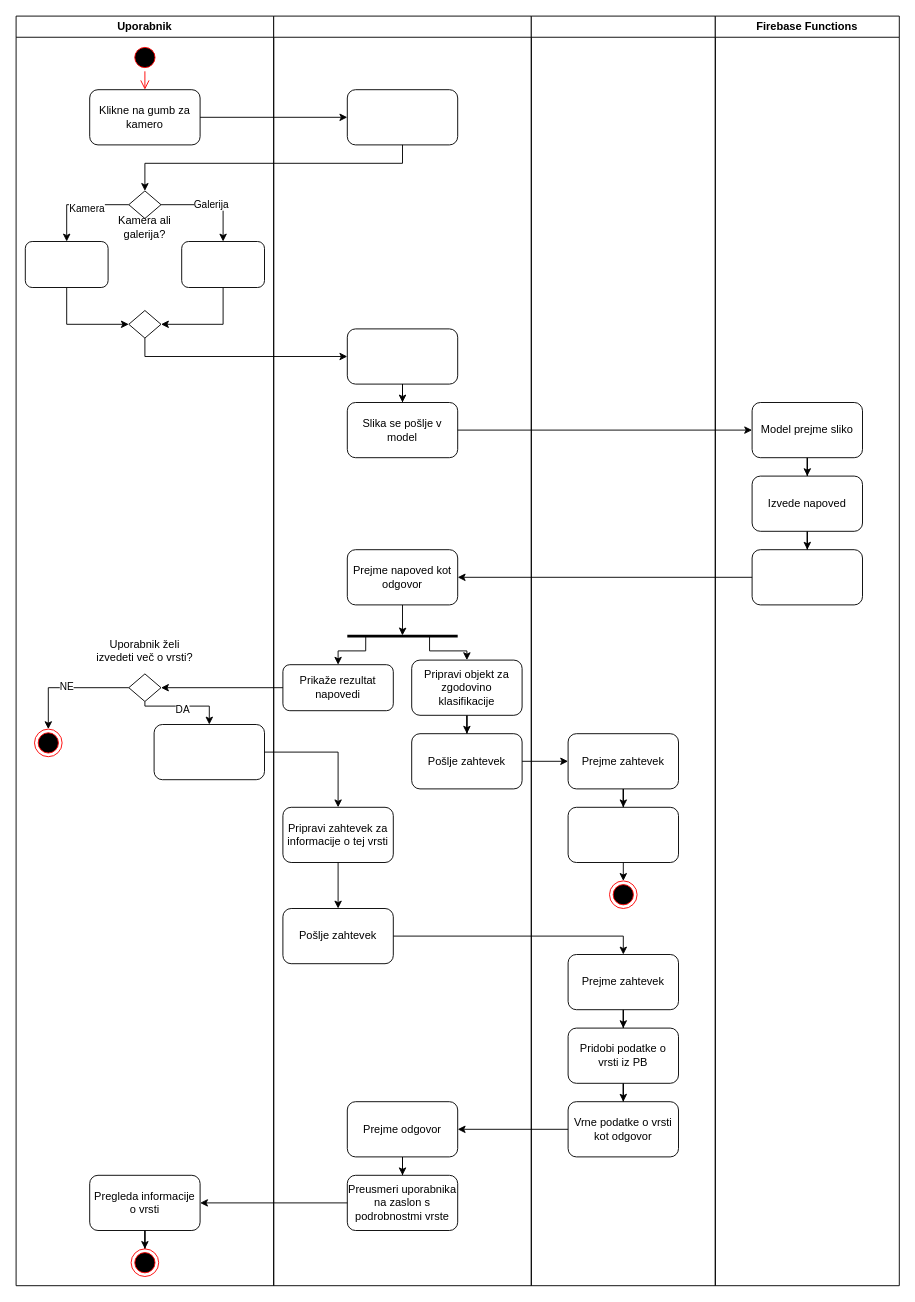
Some shapes in this 915 by 1302 pixel diagram are drawn without their labels. The shapes that lost their labels are listed below. From the top down, each one's box as (x1, y1, x2, y2) in pixels, then its label:
(346, 89, 458, 145): Preusmeri na zaslon za izbiro med kamero in nalaganjem slike
(24, 241, 108, 288): Posname sliko
(181, 241, 264, 288): Izbere sliko iz galerije
(346, 328, 458, 384): Slika je pretvorjena v base64 format
(751, 549, 862, 605): Vrne napoved kot odgovor na zahtevo
(273, 15, 531, 1286): Aplikacija
(530, 15, 715, 1286): Zaledni sistem
(153, 724, 264, 780): Klikne na gumb za podrobnosti vrste
(567, 806, 678, 862): Shrani rezultate napovedi v PB
